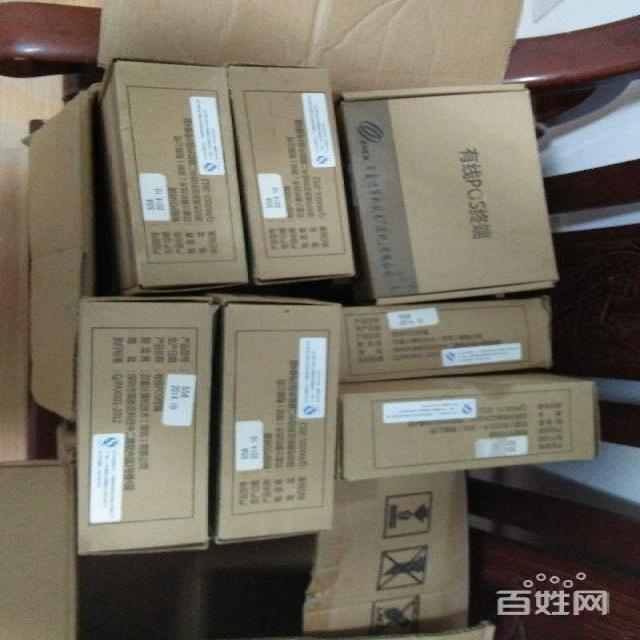box: (340, 82, 557, 303), (301, 431, 492, 637), (77, 296, 216, 555), (99, 63, 247, 294), (216, 295, 339, 544), (227, 64, 359, 285), (339, 371, 601, 480), (336, 298, 555, 382), (0, 457, 76, 640)
